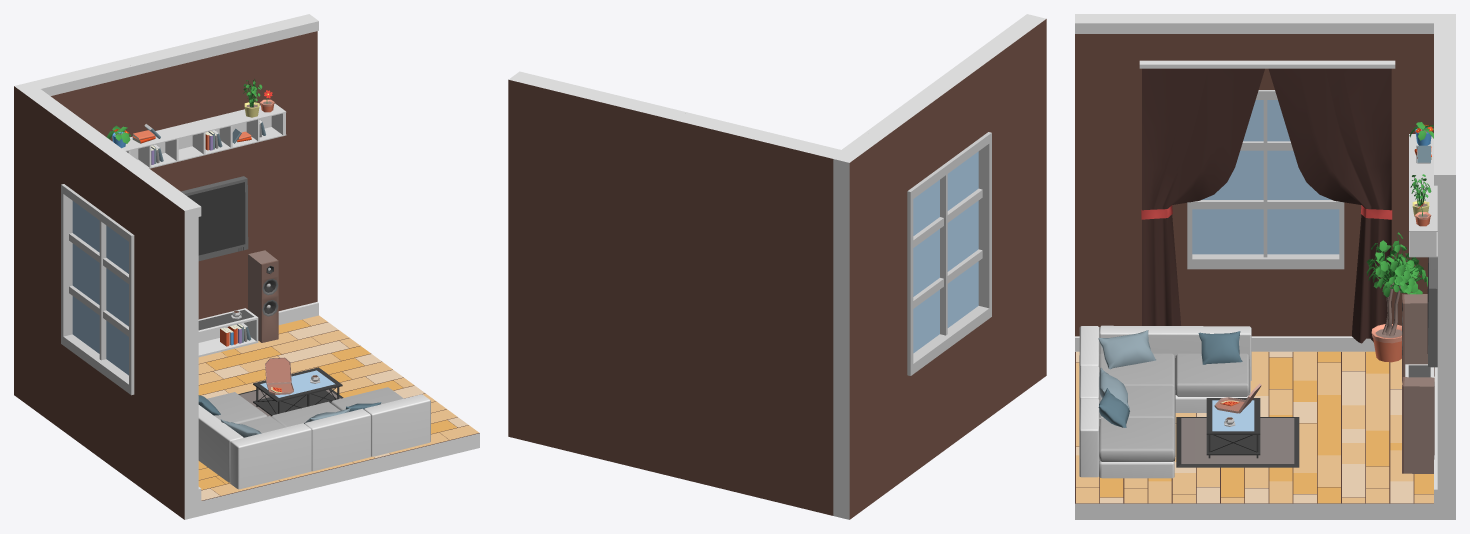
Rendered from room_9.glb.
3 views of the same model, side by side, from view 1: azimuth 30°, elevation 25°; view 2: azimuth 150°, elevation 25°; view 3: azimuth 270°, elevation 25° (orthographic). The views are drawn at different scales.
Parts seen in each view (by area): view 1: Walls_009.006, Walls_009.007, sofa_027.003, Walls_009.008, window_020.006, floor_015.001, Walls_009.009, Walls_056.004, Walls_009.010, shelf_053.003, electronics_034.003, Walls_003.057 (+7 smaller); view 2: Walls_009.006, Walls_009.008, Walls_009.007, window_020.006, Walls_009.009, Walls_009.010, Walls_003.057, Walls_003.058; view 3: floor_015.001, Walls_009.007, sofa_027.003, Curtains_011.002, Curtains_011.001, window_020.006, Walls_009.008, Walls_009.009, Walls_009.006, Walls_056.004, Walls_009.010, Walls_003.058 (+13 smaller).
Part boxes in pixels (x1,y1,x2,y2): Walls_009.006: [28, 14, 317, 319]; Walls_009.007: [133, 170, 198, 519]; sofa_027.003: [198, 387, 430, 489]; Walls_009.008: [14, 82, 78, 431]; window_020.006: [61, 184, 134, 395]; floor_015.001: [198, 315, 479, 500]; Walls_009.009: [64, 347, 133, 482]; Walls_056.004: [198, 320, 479, 516]; Walls_009.010: [64, 120, 147, 234]; shelf_053.003: [112, 103, 286, 168]; electronics_034.003: [181, 176, 248, 260]; Walls_003.057: [36, 20, 318, 96]; Walls_009.006: [508, 73, 842, 515]; Walls_009.008: [833, 116, 908, 519]; Walls_009.007: [972, 15, 1046, 418]; window_020.006: [907, 132, 991, 375]; Walls_009.009: [908, 320, 987, 476]; Walls_009.010: [892, 58, 987, 190]; Walls_003.057: [518, 71, 843, 151]; Walls_003.058: [842, 14, 1029, 150]; floor_015.001: [1076, 351, 1433, 503]; Walls_009.007: [1075, 14, 1188, 336]; sofa_027.003: [1079, 325, 1251, 478]; Curtains_011.002: [1141, 68, 1264, 325]; Curtains_011.001: [1268, 68, 1392, 343]; window_020.006: [1187, 90, 1344, 269]; Walls_009.008: [1342, 14, 1455, 336]; Walls_009.009: [1188, 269, 1342, 336]; Walls_009.006: [1437, 21, 1455, 519]; Walls_056.004: [1075, 352, 1437, 519]; Walls_009.010: [1188, 14, 1342, 89]; Walls_003.058: [1075, 21, 1433, 33].
Bounding box in the file's own units: 4.24 × 4.2 × 4.2.
1 material, 1 textured.
